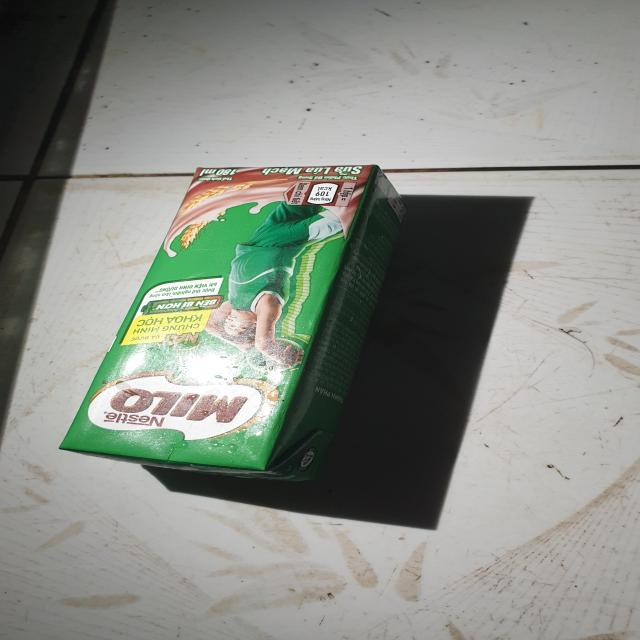Milo: (57, 165, 402, 485)
